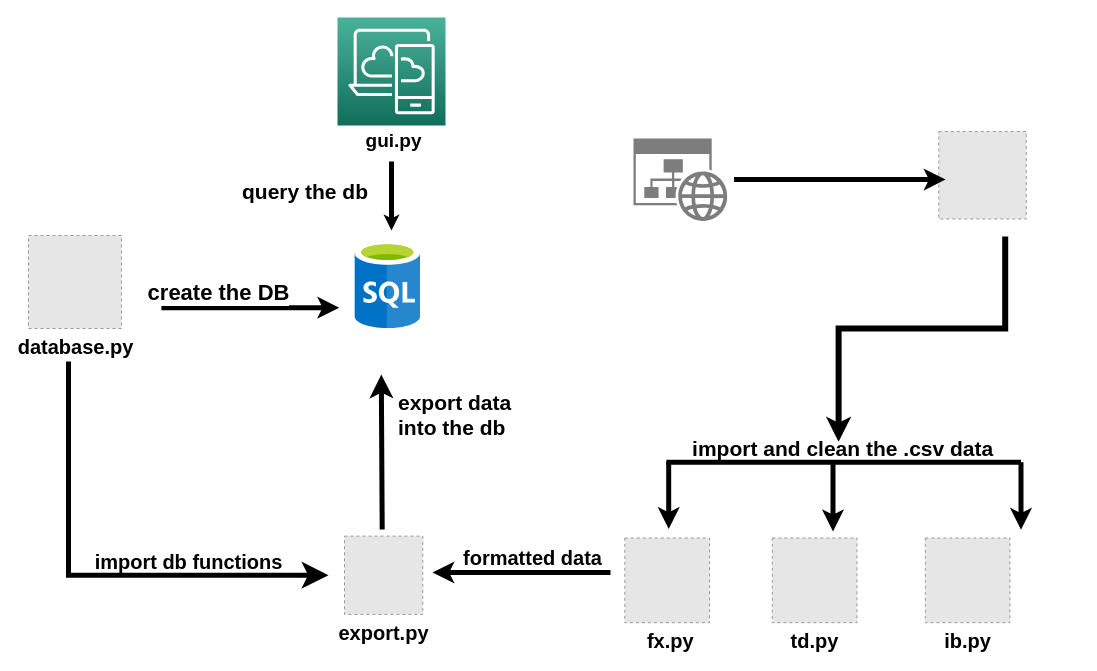
Image size: 1097x671. Some labels were removed from this diagram. Grey dashed boxes stand in for pictures. The shapes that lost their labels are listed below. From the top down, each one's centre as x and y in pixels, then its label:
At (x=680, y=179): "Download .csv files (manual)".
At (x=387, y=284): "database.db".
